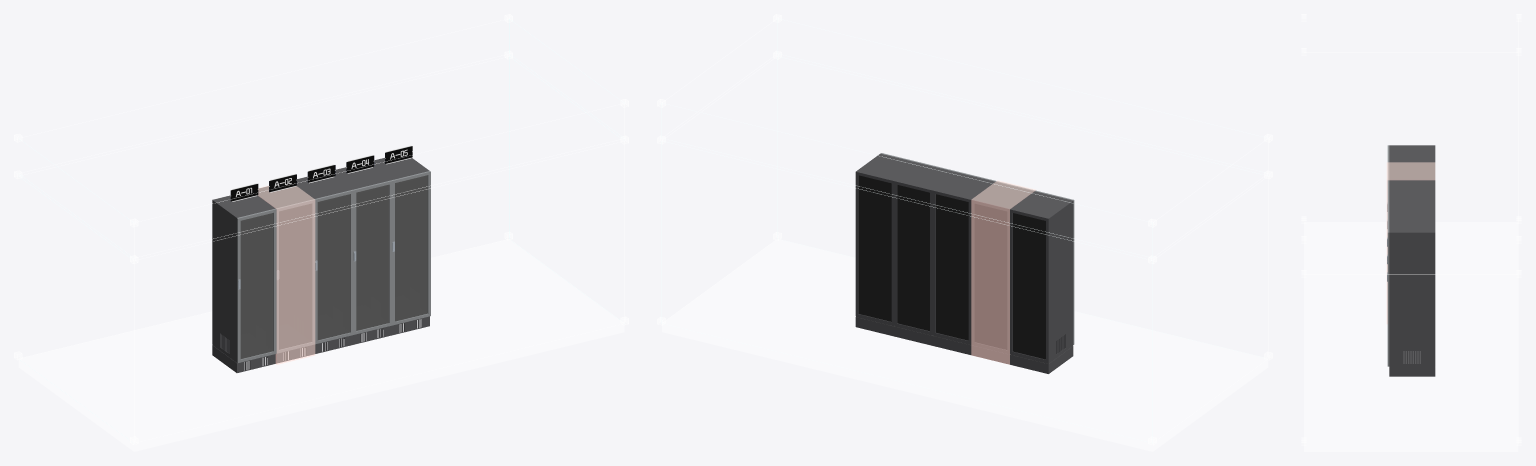
File: jigui_xuanran_0520.gltf
The picture shows the model from 3 angles, left to right: view 1: azimuth 30°, elevation 25°; view 2: azimuth 150°, elevation 25°; view 3: azimuth 270°, elevation 25°; orthographic projection. The views are drawn at different scales.
Parts seen in each view (by area): view 1: JF_Jg_Floor_001, JF_TXMX_JG_Wall_002, JF_Gui Zi_Gray_001, JF_Glass_A_003, JF_Glass_A_001, JF_Glass_A_005, JF_Glass_A_004, JF_Glass_A_002, JG_Txmx_Xk_Wgjg_001, JF_Men Kuang_001, JF_Men Kuang_004, JF_Men Kuang_003 (+7 smaller); view 2: JF_Jg_Floor_001, JF_TXMX_JG_Wall_002, JF_Gui Zi_Gray_001, JF_Glass_B_005, JF_Glass_B_002, JF_Glass_B_001, JF_Glass_B_003, JF_Glass_B_004, JG_Txmx_Xk_Wgjg_001, JF_Gui Zi_Gray_005, JF_Gui Zi_Gray_004, JF_Gui Zi_Gray_003 (+1 smaller); view 3: JF_Jg_Floor_001, JF_Gui Zi_Gray_005, JF_TXMX_JG_Wall_002, JF_Gui Zi_Gray_004, JF_Gui Zi_Gray_002, JG_Txmx_Xk_Wgjg_001, JF_Gui Zi_Gray_001, JF_Gui Zi_Gray_003, JF_Men Kuang_005, JG_Txmx_xk_003.
Part boxes in pixels (x1,y1,x2,y2): JF_Jg_Floor_001: (19,239,624,451); JF_TXMX_JG_Wall_002: (258,185,315,364); JF_Gui Zi_Gray_001: (212,195,275,372); JF_Glass_A_003: (317,194,350,340); JF_Glass_A_001: (240,213,273,358); JF_Glass_A_005: (395,175,427,321); JF_Glass_A_004: (356,184,388,330); JF_Glass_A_002: (279,203,311,349); JG_Txmx_Xk_Wgjg_001: (18,18,624,443); JF_Men Kuang_001: (237,208,276,362); JF_Men Kuang_004: (353,180,392,334); JF_Men Kuang_003: (314,190,353,344); JF_Jg_Floor_001: (662,239,1267,451); JF_TXMX_JG_Wall_002: (971,180,1035,364); JF_Gui Zi_Gray_001: (1010,191,1073,373); JF_Glass_B_005: (858,175,891,321); JF_Glass_B_002: (974,204,1007,349); JF_Glass_B_001: (1013,213,1045,359); JF_Glass_B_003: (936,194,968,340); JF_Glass_B_004: (897,185,929,331); JG_Txmx_Xk_Wgjg_001: (661,18,1268,443); JF_Gui Zi_Gray_005: (855,153,918,336); JF_Gui Zi_Gray_004: (894,163,957,345); JF_Gui Zi_Gray_003: (933,172,995,354); JF_Jg_Floor_001: (1304,222,1517,451); JF_Gui Zi_Gray_005: (1389,215,1435,376); JF_TXMX_JG_Wall_002: (1386,162,1435,323); JF_Gui Zi_Gray_004: (1389,197,1435,215); JF_Gui Zi_Gray_002: (1389,162,1435,180); JG_Txmx_Xk_Wgjg_001: (1304,18,1518,443); JF_Gui Zi_Gray_001: (1389,145,1435,162); JF_Gui Zi_Gray_003: (1389,180,1435,197); JF_Men Kuang_005: (1387,215,1389,366); JG_Txmx_xk_003: (1301,14,1521,444).
Size of what is drawn, in the model's own units: 0.1791 by 0.08 by 0.0744.
15 materials, 5 textured.
